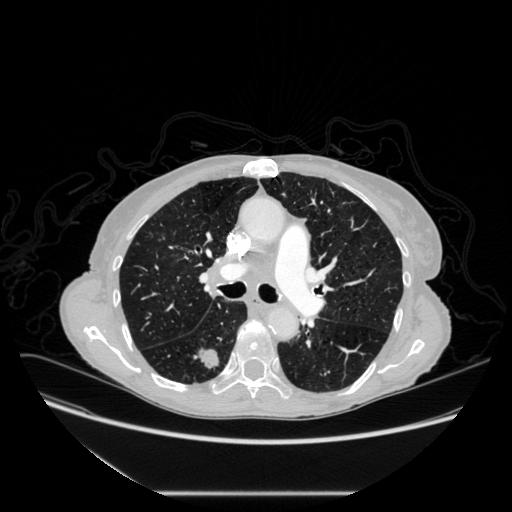nodule: (196, 344, 222, 370)
